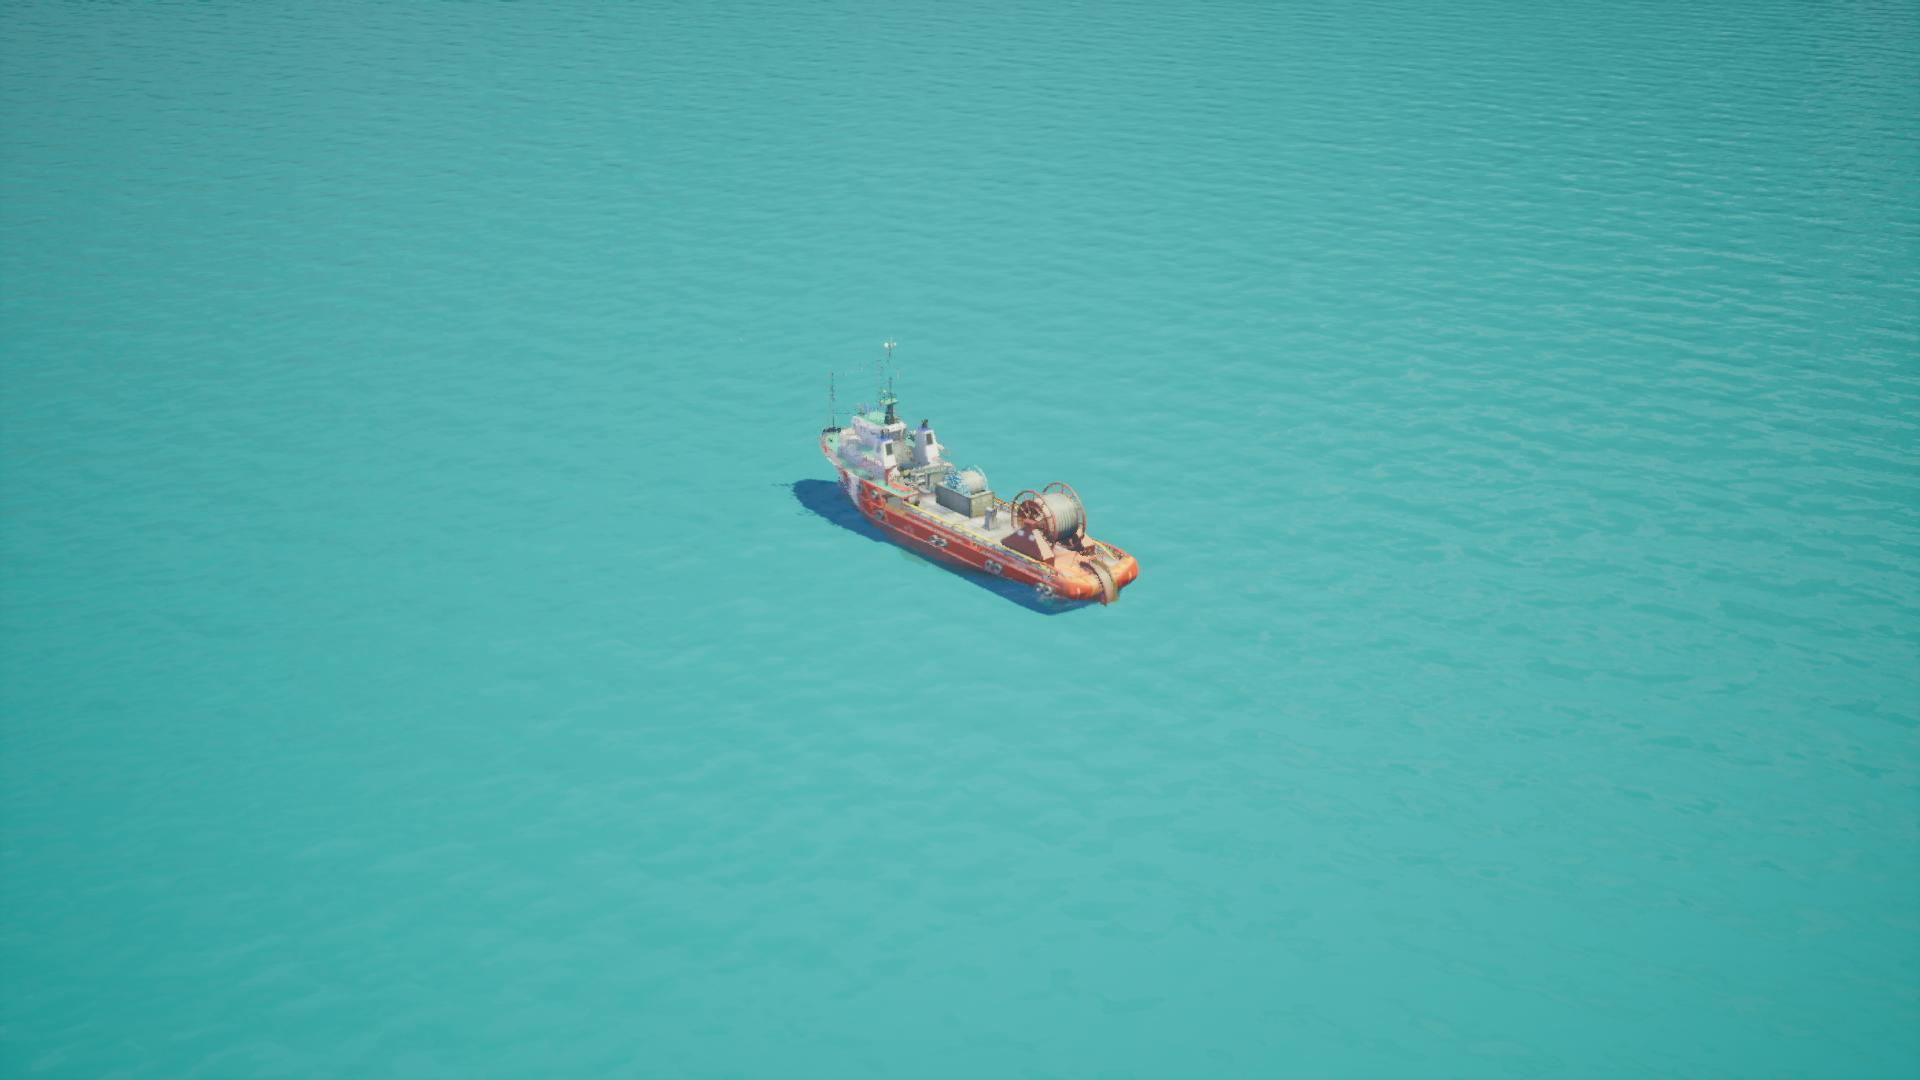Tug Boat: (807, 335, 1101, 616)
